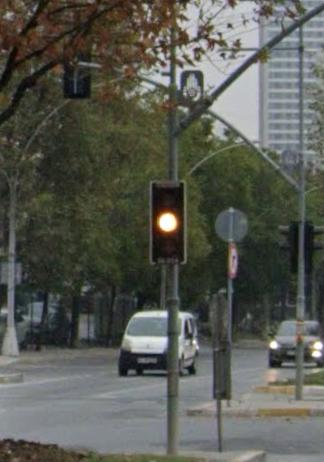yellowlight: (151, 181, 185, 257)
